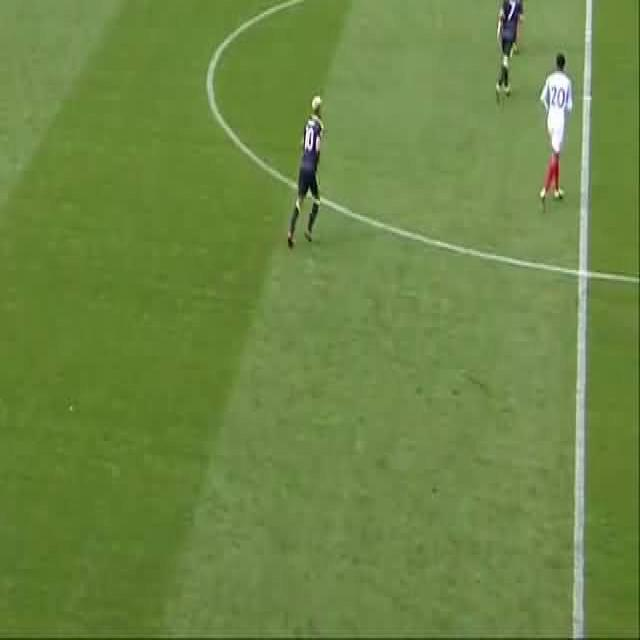player-white: (286, 96, 324, 248), (540, 52, 572, 206), (494, 0, 524, 102), (503, 0, 530, 54)
